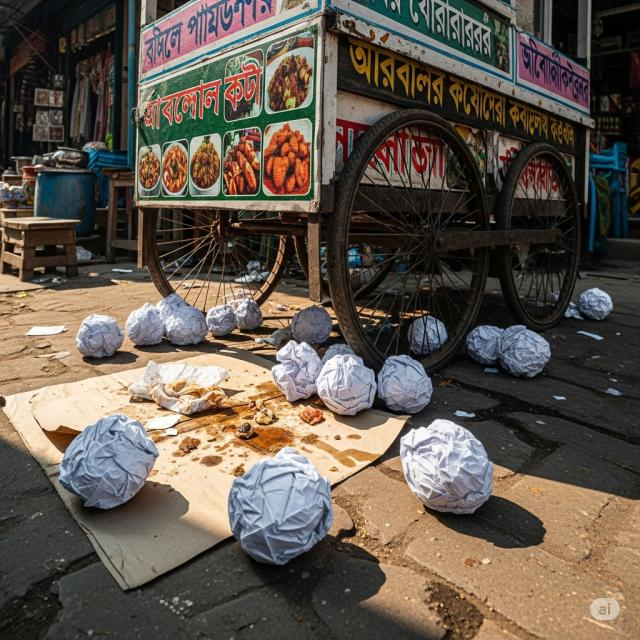paper: (227, 456, 334, 564), (57, 417, 160, 511), (395, 426, 493, 513), (273, 343, 319, 401), (504, 326, 549, 376), (74, 314, 123, 359), (577, 290, 614, 321)
